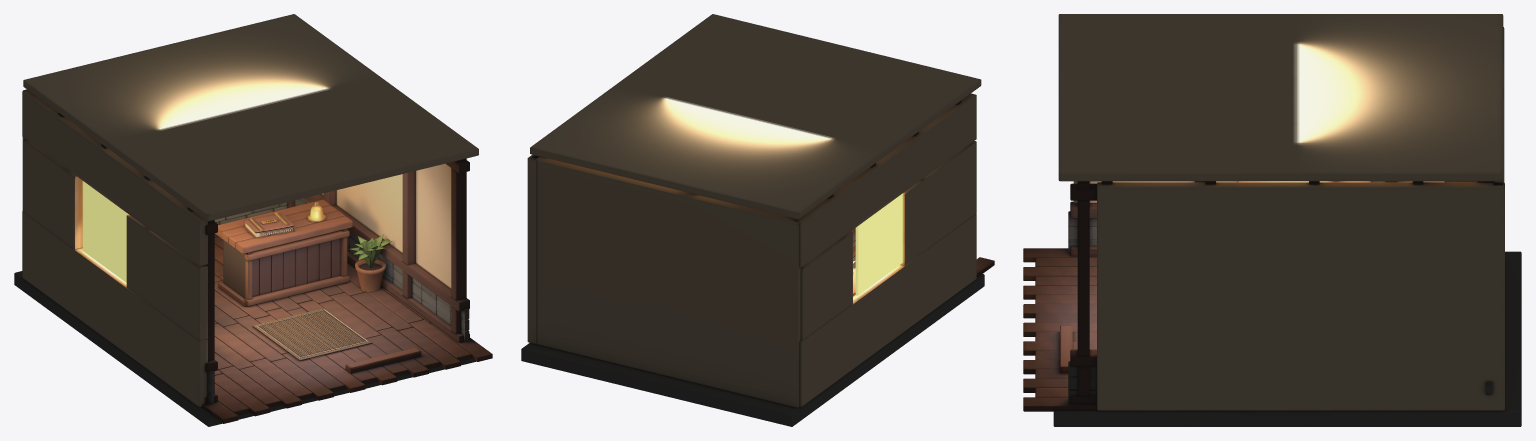
The model's file is hush-inn-day.glb.
3 renders of one model, left to right at view 1: azimuth 30°, elevation 25°; view 2: azimuth 150°, elevation 25°; view 3: azimuth 270°, elevation 25°, orthographic. The views are drawn at different scales.
Visible parts, largest first — view 1: Hush • baked room, book • interactive; view 2: Hush • baked room; view 3: Hush • baked room.
Boxes of the visible parts, left/top/right/bottom form: Hush • baked room: left=14, top=14, right=492, bottom=426; book • interactive: left=243, top=213, right=294, bottom=238; Hush • baked room: left=521, top=14, right=994, bottom=426; Hush • baked room: left=1023, top=14, right=1521, bottom=426.
Size of the model in its own units: 5.77 by 4.18 by 7.45.
1 material, 1 textured.
